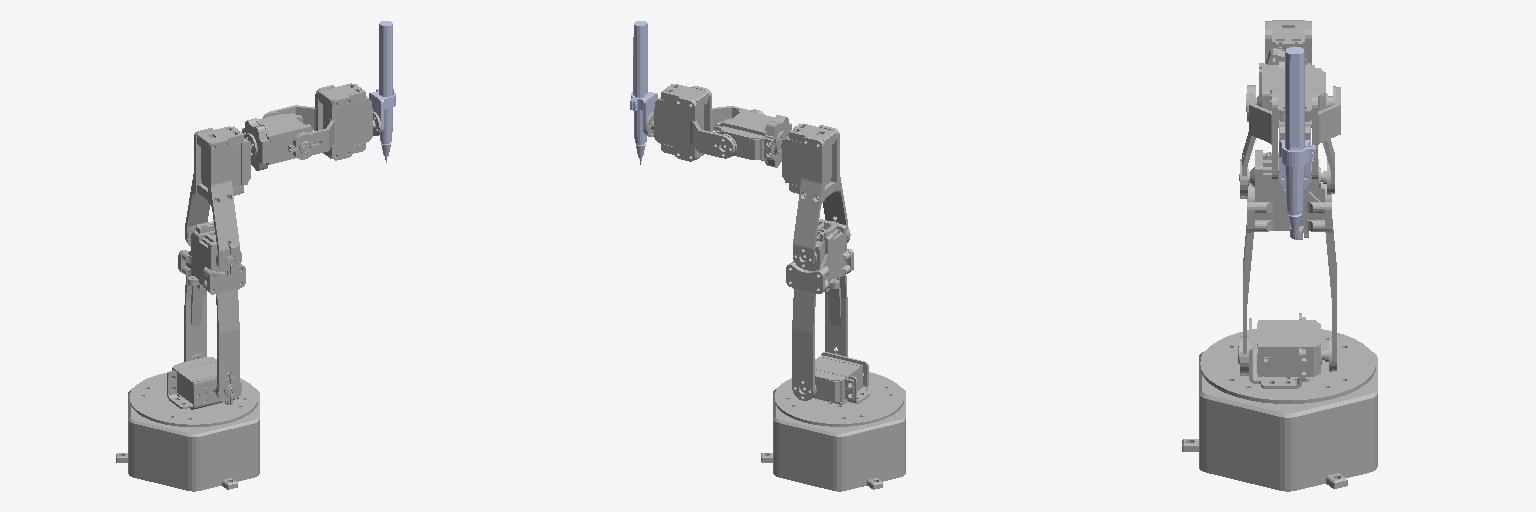
The robot description file, URDF, robot "roboprinter_description":
<?xml version="1.0" encoding="utf-8"?>
<!-- This URDF was automatically created by SolidWorks to URDF Exporter! Originally created by [author] ([email redacted]) 
     Commit Version: 1.6.0-4-g7f85cfe  Build Version: 1.6.7995.38578
     For more information, please see http://wiki.ros.org/sw_urdf_exporter -->
<robot
  name="roboprinter_description">
  <link
    name="base_link">
    <inertial>
      <origin
        xyz="-3.29639758360888E-18 6.40510956545558E-18 0.0252448902560107"
        rpy="0 0 0" />
      <mass
        value="0.528972339556969" />
      <inertia
        ixx="0.000565267350159599"
        ixy="7.20477701470394E-20"
        ixz="-1.35589134863881E-21"
        iyy="0.000565267350159599"
        iyz="1.48892540258629E-20"
        izz="0.000902847820384731" />
    </inertial>
    <visual>
      <origin
        xyz="0 0 0"
        rpy="0 0 0" />
      <geometry>
        <mesh
          filename="package://roboprinter_description/meshes/base_link.STL" />
      </geometry>
      <material
        name="">
        <color
          rgba="0.752941176470588 0.752941176470588 0.752941176470588 1" />
      </material>
    </visual>
    <collision>
      <origin
        xyz="0 0 0"
        rpy="0 0 0" />
      <geometry>
        <mesh
          filename="package://roboprinter_description/meshes/base_link.STL" />
      </geometry>
    </collision>
  </link>
  <link
    name="link1">
    <inertial>
      <origin
        xyz="0.00507209935034024 -0.000300441790189516 0.0116994245938115"
        rpy="0 0 0" />
      <mass
        value="0.0780956885827604" />
      <inertia
        ixx="2.74139429221986E-05"
        ixy="-4.7581426601598E-08"
        ixz="-4.52002661664857E-10"
        iyy="2.85023356212491E-05"
        iyz="1.79574293893268E-07"
        izz="5.24080462645915E-05" />
    </inertial>
    <visual>
      <origin
        xyz="0 0 0"
        rpy="0 0 0" />
      <geometry>
        <mesh
          filename="package://roboprinter_description/meshes/link1.STL" />
      </geometry>
      <material
        name="">
        <color
          rgba="0.752941176470588 0.752941176470588 0.752941176470588 1" />
      </material>
    </visual>
    <collision>
      <origin
        xyz="0 0 0"
        rpy="0 0 0" />
      <geometry>
        <mesh
          filename="package://roboprinter_description/meshes/link1.STL" />
      </geometry>
    </collision>
  </link>
  <joint
    name="joint1"
    type="continuous">
    <origin
      xyz="0 0 0.0535"
      rpy="0 0 0" />
    <parent
      link="base_link" />
    <child
      link="link1" />
    <axis
      xyz="0 0 1" />
    <limit
      lower="-1.5708"
      upper="1.5708"
      effort="0"
      velocity="0" />
  </joint>
  <link
    name="link2">
    <inertial>
      <origin
        xyz="1.66586907462962E-10 -0.097358513327758 -0.000842949373771198"
        rpy="0 0 0" />
      <mass
        value="0.0710552587256191" />
      <inertia
        ixx="3.51801005497061E-05"
        ixy="1.2886766012224E-13"
        ixz="-2.28168634625685E-13"
        iyy="1.05093963528104E-05"
        iyz="-2.70651104967169E-07"
        izz="3.24559133069899E-05" />
    </inertial>
    <visual>
      <origin
        xyz="0 0 0"
        rpy="0 0 0" />
      <geometry>
        <mesh
          filename="package://roboprinter_description/meshes/link2.STL" />
      </geometry>
      <material
        name="">
        <color
          rgba="0.752941176470588 0.752941176470588 0.752941176470588 1" />
      </material>
    </visual>
    <collision>
      <origin
        xyz="0 0 0"
        rpy="0 0 0" />
      <geometry>
        <mesh
          filename="package://roboprinter_description/meshes/link2.STL" />
      </geometry>
    </collision>
  </link>
  <joint
    name="joint2"
    type="continuous">
    <origin
      xyz="0.018 0.00075 0.0185"
      rpy="-1.5708 0 0" />
    <parent
      link="link1" />
    <child
      link="link2" />
    <axis
      xyz="0 0 1" />
    <limit
      lower="-1.5708"
      upper="1.5708"
      effort="0"
      velocity="0" />
  </joint>
  <link
    name="link3">
    <inertial>
      <origin
        xyz="0.00924260865916297 -0.0685971128471527 -0.000891457472441148"
        rpy="0 0 0" />
      <mass
        value="0.063710838791278" />
      <inertia
        ixx="2.32949415106812E-05"
        ixy="4.58056298766306E-08"
        ixz="-1.47447853758939E-13"
        iyy="7.69364844206756E-06"
        iyz="3.36461385700796E-07"
        izz="2.66143887657194E-05" />
    </inertial>
    <visual>
      <origin
        xyz="0 0 0"
        rpy="0 0 0" />
      <geometry>
        <mesh
          filename="package://roboprinter_description/meshes/link3.STL" />
      </geometry>
      <material
        name="">
        <color
          rgba="0.752941176470588 0.752941176470588 0.752941176470588 1" />
      </material>
    </visual>
    <collision>
      <origin
        xyz="0 0 0"
        rpy="0 0 0" />
      <geometry>
        <mesh
          filename="package://roboprinter_description/meshes/link3.STL" />
      </geometry>
    </collision>
  </link>
  <joint
    name="joint3"
    type="continuous">
    <origin
      xyz="0 -0.12025 0.000125"
      rpy="0 0 0" />
    <parent
      link="link2" />
    <child
      link="link3" />
    <axis
      xyz="0 0 1" />
    <limit
      lower="-1.5708"
      upper="1.5708"
      effort="0"
      velocity="0" />
  </joint>
  <link
    name="link4">
    <inertial>
      <origin
        xyz="1.11022302462516E-16 -0.00240405152854635 0.0256295741808176"
        rpy="0 0 0" />
      <mass
        value="0.0574652082257363" />
      <inertia
        ixx="1.35787495117706E-05"
        ixy="2.05795510120988E-21"
        ixz="-1.44833338790548E-21"
        iyy="1.07767966077502E-05"
        iyz="1.55705095507992E-07"
        izz="9.2117235835035E-06" />
    </inertial>
    <visual>
      <origin
        xyz="0 0 0"
        rpy="0 0 0" />
      <geometry>
        <mesh
          filename="package://roboprinter_description/meshes/link4.STL" />
      </geometry>
      <material
        name="">
        <color
          rgba="0.752941176470588 0.752941176470588 0.752941176470588 1" />
      </material>
    </visual>
    <collision>
      <origin
        xyz="0 0 0"
        rpy="0 0 0" />
      <geometry>
        <mesh
          filename="package://roboprinter_description/meshes/link4.STL" />
      </geometry>
    </collision>
  </link>
  <joint
    name="joint4"
    type="continuous">
    <origin
      xyz="0.0375 -0.085 -0.000625"
      rpy="-1.5708 0 -1.5708" />
    <parent
      link="link3" />
    <child
      link="link4" />
    <axis
      xyz="0 0 1" />
    <limit
      lower="-1.5708"
      upper="1.5708"
      effort="0"
      velocity="0" />
  </joint>
  <link
    name="link5">
    <inertial>
      <origin
        xyz="0.000135673462176855 -0.0516824795785821 -0.000269379470015593"
        rpy="0 0 0" />
      <mass
        value="0.0613661556558953" />
      <inertia
        ixx="1.15764077279977E-05"
        ixy="4.58049748437246E-08"
        ixz="8.94951420120586E-21"
        iyy="9.79155800814954E-06"
        iyz="2.0759913512661E-07"
        izz="1.70267491333011E-05" />
    </inertial>
    <visual>
      <origin
        xyz="0 0 0"
        rpy="0 0 0" />
      <geometry>
        <mesh
          filename="package://roboprinter_description/meshes/link5.STL" />
      </geometry>
      <material
        name="">
        <color
          rgba="0.752941176470588 0.752941176470588 0.752941176470588 1" />
      </material>
    </visual>
    <collision>
      <origin
        xyz="0 0 0"
        rpy="0 0 0" />
      <geometry>
        <mesh
          filename="package://roboprinter_description/meshes/link5.STL" />
      </geometry>
    </collision>
  </link>
  <joint
    name="joint5"
    type="continuous">
    <origin
      xyz="0 -0.004 0.03725"
      rpy="-1.5708 0 -3.1416" />
    <parent
      link="link4" />
    <child
      link="link5" />
    <axis
      xyz="0 0 1" />
    <limit
      lower="-1.5708"
      upper="1.5708"
      effort="0"
      velocity="0" />
  </joint>
  <link
    name="link6">
    <inertial>
      <origin
        xyz="0.0143595422392718 -0.000612672832744842 0.0047999736628663"
        rpy="0 0 0" />
      <mass
        value="0.00271172671570455" />
      <inertia
        ixx="1.71332219642541E-07"
        ixy="9.37180381460327E-09"
        ixz="-5.42937694243123E-08"
        iyy="2.89686808729506E-07"
        iyz="9.57903170943266E-09"
        izz="3.18465730413809E-07" />
    </inertial>
    <visual>
      <origin
        xyz="0 0 0"
        rpy="0 0 0" />
      <geometry>
        <mesh
          filename="package://roboprinter_description/meshes/link6.STL" />
      </geometry>
      <material
        name="">
        <color
          rgba="0.792156862745098 0.819607843137255 0.933333333333333 1" />
      </material>
    </visual>
    <collision>
      <origin
        xyz="0 0 0"
        rpy="0 0 0" />
      <geometry>
        <mesh
          filename="package://roboprinter_description/meshes/link6.STL" />
      </geometry>
    </collision>
  </link>
  <joint
    name="joint6"
    type="continuous">
    <origin
      xyz="0.01 -0.084649 0"
      rpy="-1.5708 0 3.1416" />
    <parent
      link="link5" />
    <child
      link="link6" />
    <axis
      xyz="0 0 1" />
    <limit
      lower="-1.5708"
      upper="1.5708"
      effort="0"
      velocity="0" />
  </joint>
  <link
    name="end_effector">
    <inertial>
      <origin
        xyz="4.70253176676483E-12 -9.25969745324551E-10 -0.0742532271411501"
        rpy="0 0 0" />
      <mass
        value="0.0118315685530414" />
      <inertia
        ixx="1.22920468793244E-05"
        ixy="5.63748568852987E-14"
        ixz="-1.11700708800501E-15"
        iyy="1.23044609312459E-05"
        iyz="1.21000481097898E-13"
        izz="1.94618918342423E-07" />
    </inertial>
    <visual>
      <origin
        xyz="0 0 0"
        rpy="0 0 0" />
      <geometry>
        <mesh
          filename="package://roboprinter_description/meshes/end_effector.STL" />
      </geometry>
      <material
        name="">
        <color
          rgba="0.792156862745098 0.819607843137255 0.933333333333333 1" />
      </material>
    </visual>
    <collision>
      <origin
        xyz="0 0 0"
        rpy="0 0 0" />
      <geometry>
        <mesh
          filename="package://roboprinter_description/meshes/end_effector.STL" />
      </geometry>
    </collision>
  </link>
  <joint
    name="effector_joint"
    type="fixed">
    <origin
      xyz="-0.04 0 0.0105"
      rpy="-1.5708 0 1.5708" />
    <parent
      link="link6" />
    <child
      link="end_effector" />
    <axis
      xyz="0 0 0" />
  </joint>
</robot>

--- Render facts (derived) ---
Views: 3 orthographic renders of the robot side by side, from view 1: azimuth 30°, elevation 25°; view 2: azimuth 150°, elevation 25°; view 3: azimuth 270°, elevation 25°.
Model roboprinter_description with 8 links and 7 joints (6 continuous, 1 fixed), rooted at base_link, posed all joints at 0.
Visible links, largest first — view 1: base_link, link2, link3, link1, link5, link4, end_effector; view 2: base_link, link2, link3, link1, link5, link4, end_effector; view 3: base_link, link1, link2, link5, end_effector, link3, link4, link6.
Link boxes in pixels (x1=…): base_link: x1=116, y1=388, x2=259, y2=491; link2: x1=178, y1=221, x2=245, y2=404; link3: x1=185, y1=126, x2=257, y2=274; link1: x1=129, y1=354, x2=257, y2=426; link5: x1=263, y1=83, x2=381, y2=160; link4: x1=242, y1=112, x2=312, y2=170; end_effector: x1=379, y1=21, x2=393, y2=162; base_link: x1=761, y1=388, x2=905, y2=491; link2: x1=786, y1=219, x2=853, y2=400; link3: x1=775, y1=123, x2=850, y2=268; link1: x1=774, y1=352, x2=903, y2=426; link5: x1=645, y1=84, x2=764, y2=161; link4: x1=714, y1=109, x2=791, y2=167; end_effector: x1=633, y1=21, x2=647, y2=164; base_link: x1=1182, y1=351, x2=1377, y2=491; link1: x1=1200, y1=313, x2=1375, y2=403; link2: x1=1239, y1=150, x2=1336, y2=375; link5: x1=1247, y1=85, x2=1340, y2=191; end_effector: x1=1285, y1=47, x2=1304, y2=239; link3: x1=1240, y1=20, x2=1334, y2=198; link4: x1=1246, y1=48, x2=1335, y2=127; link6: x1=1279, y1=140, x2=1315, y2=189.
Size in the robot's own frame: 0.2577 by 0.12 by 0.3573 metres.
8 mesh visuals loaded from 8 distinct referenced files (8 binary STL).